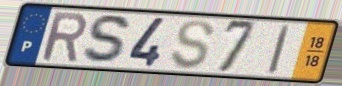4: (126, 16, 166, 69)
7: (218, 18, 256, 75)
I: (265, 23, 293, 77)
R: (40, 11, 88, 65)
S: (80, 13, 135, 67), (168, 18, 216, 72)
